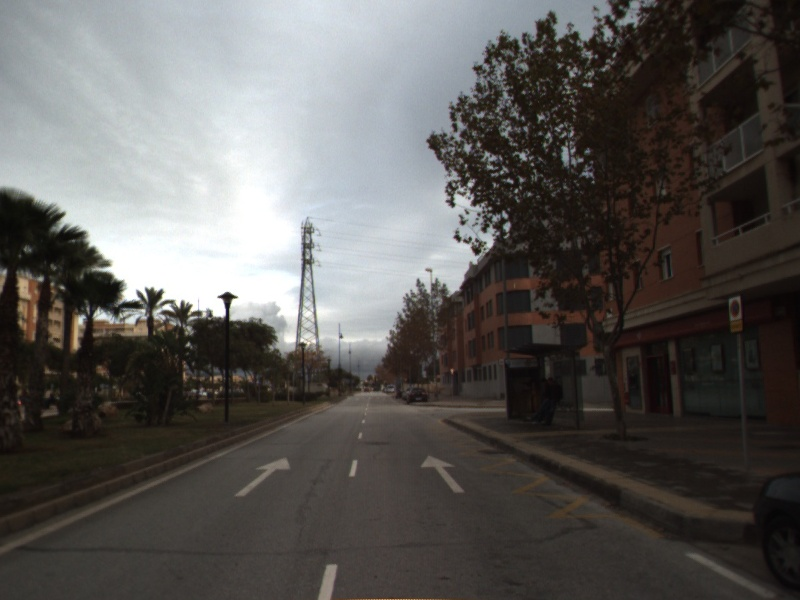STRAIGHT: (232, 455, 292, 498), (419, 453, 466, 494)
